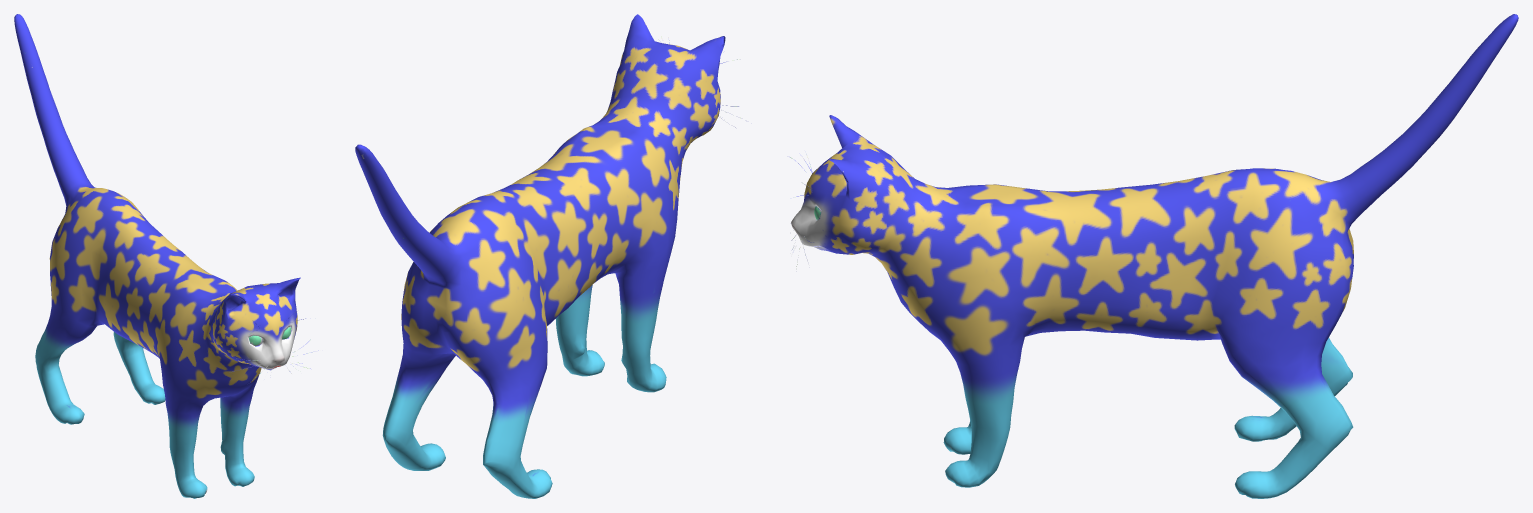
File: anabella.fbx
3 views of the same model, side by side, from view 1: azimuth 30°, elevation 25°; view 2: azimuth 150°, elevation 25°; view 3: azimuth 270°, elevation 25° (orthographic). The views are drawn at different scales.
Parts seen in each view (by area): view 1: Cat_Low; view 2: Cat_Low; view 3: Cat_Low.
Boxes of the visible parts, x1=… form: Cat_Low: x1=14, y1=14, x2=320, y2=498; Cat_Low: x1=355, y1=14, x2=738, y2=498; Cat_Low: x1=790, y1=14, x2=1518, y2=498.
Bounding box in the file's own units: 1238 × 3660 × 5381.
Materials: 1 (1 with a texture image).
